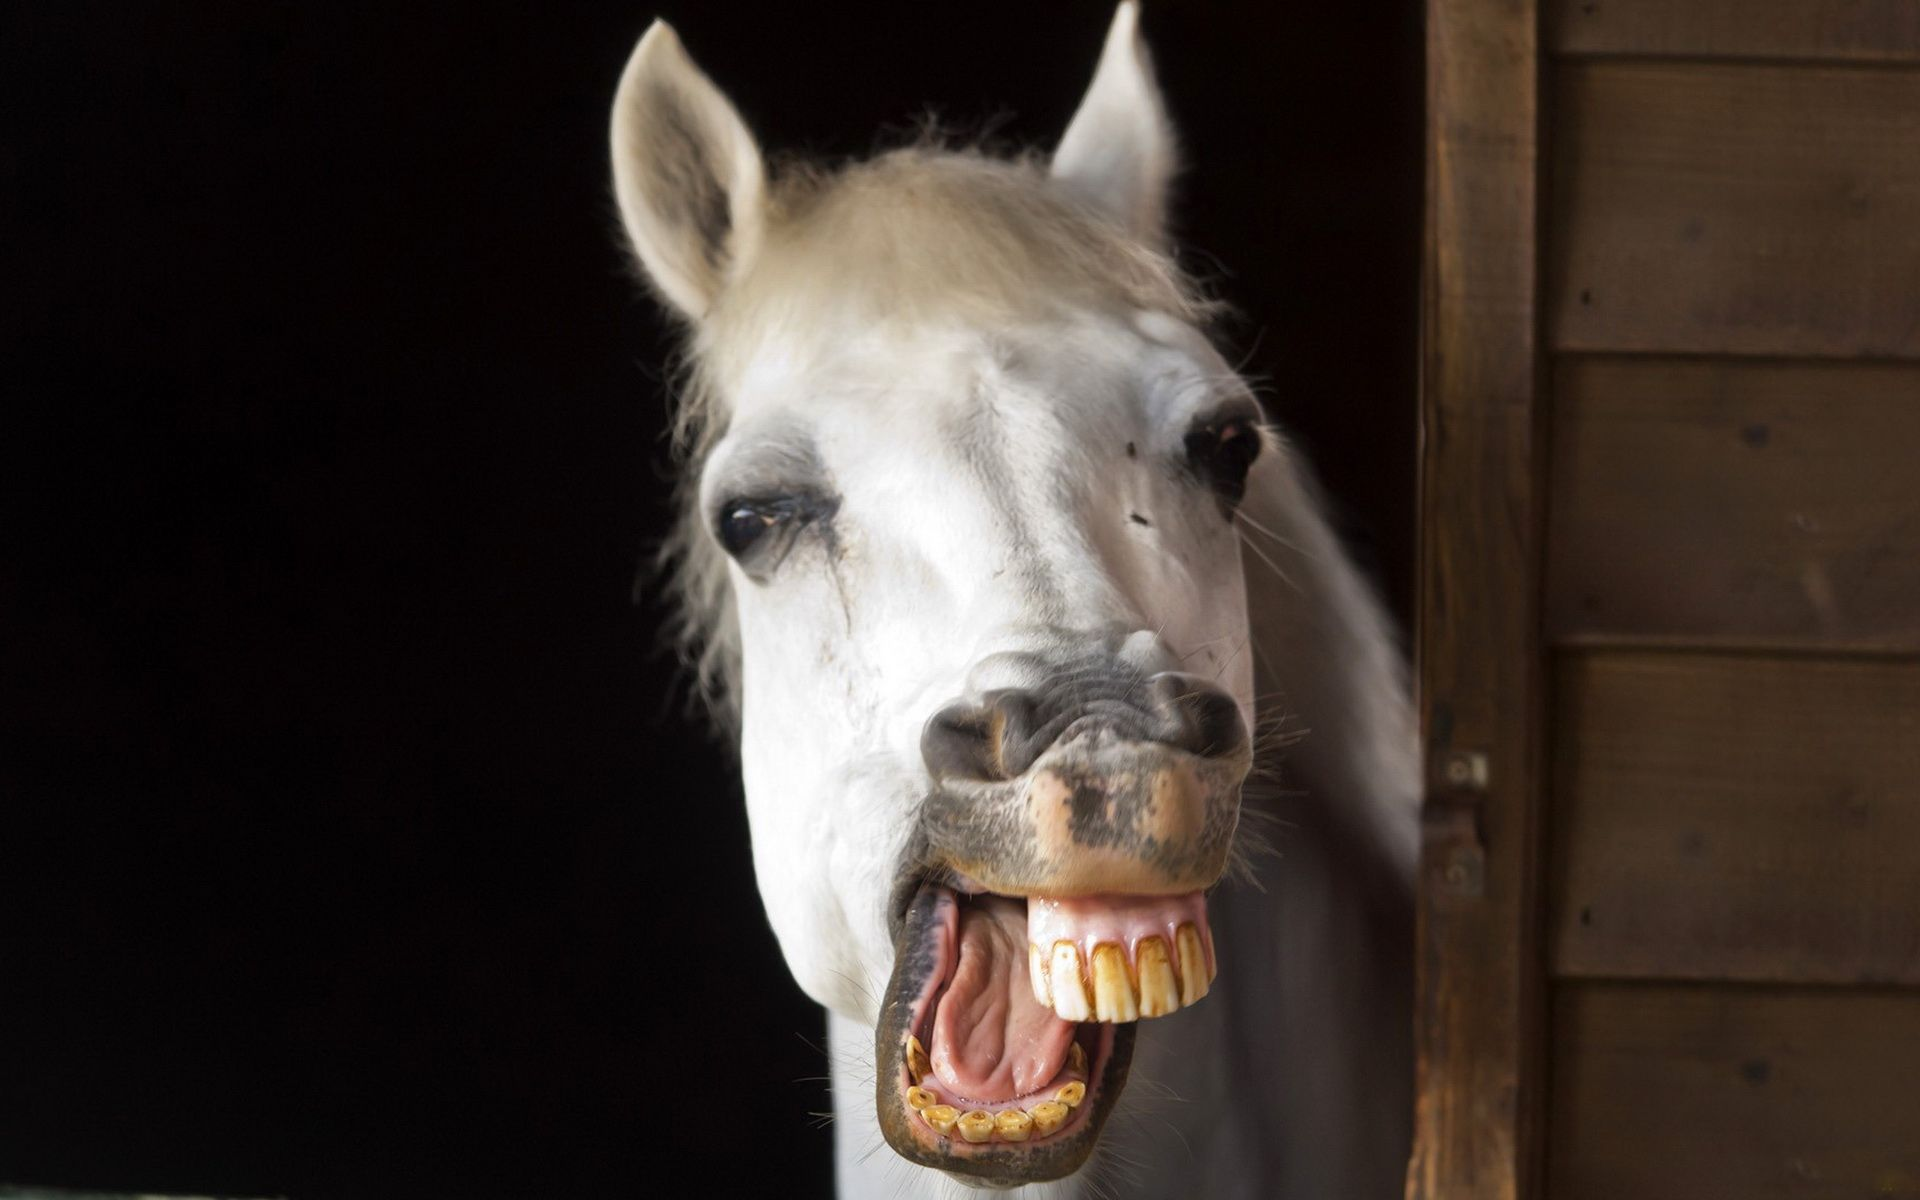Horse: (509, 87, 1443, 1188)
